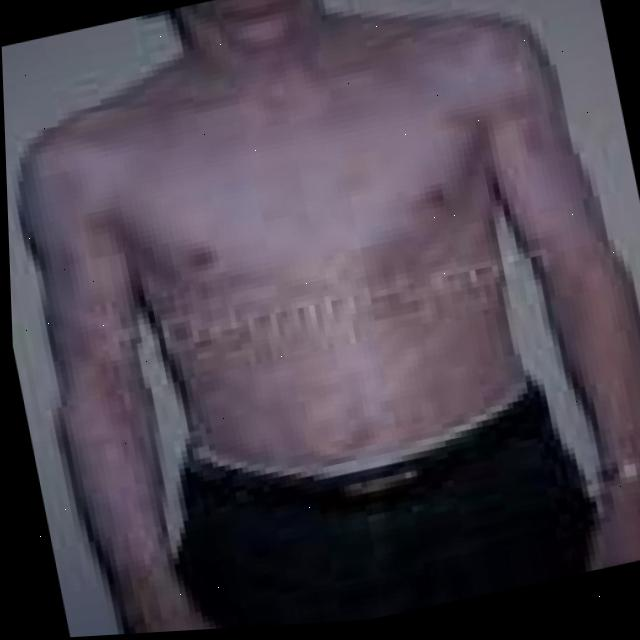Melasma: (45, 278, 189, 638), (530, 221, 640, 492)
